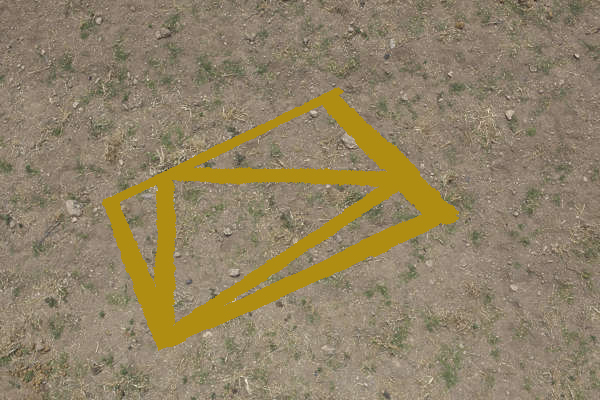marker: (97, 78, 462, 357)
